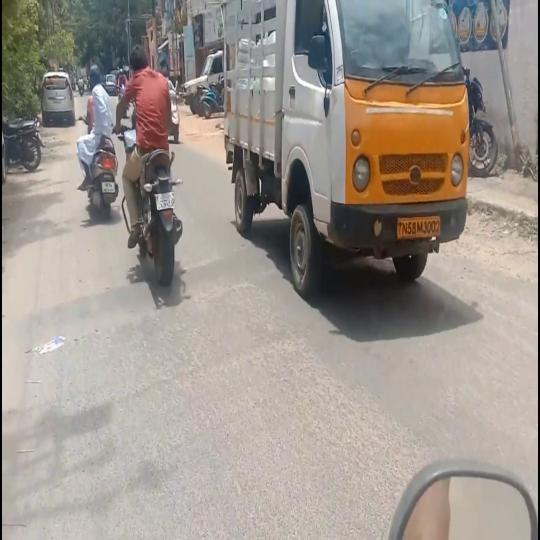Speed Bump: (2, 274, 152, 348), (176, 246, 288, 300)
